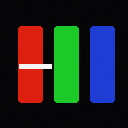3 line_h: (19, 64, 51, 68)
